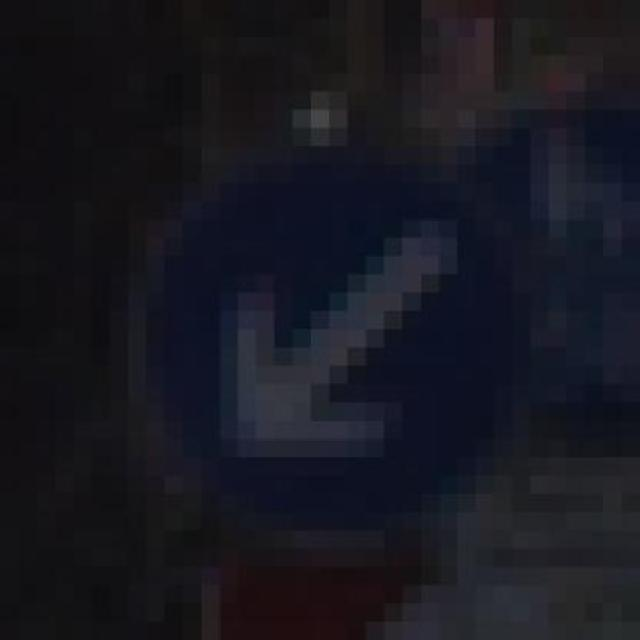Keep-Left: (128, 128, 549, 568)
